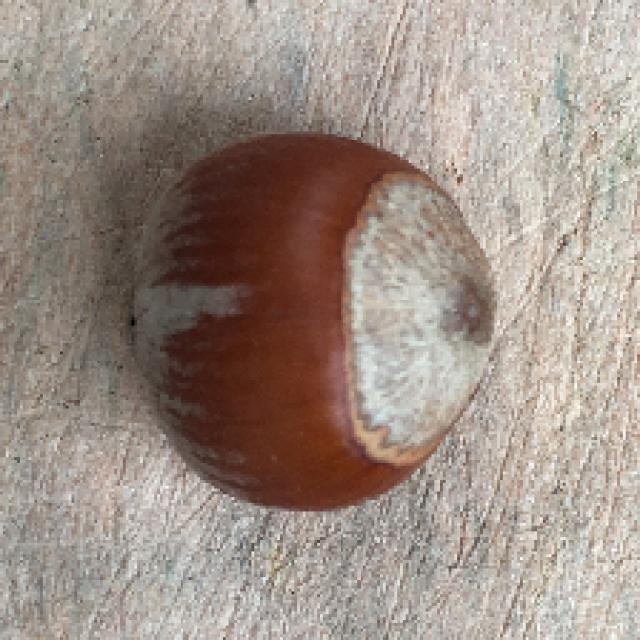qualityHazelnut: (114, 115, 514, 520)
